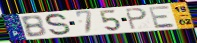5: (98, 9, 122, 32)
7: (74, 9, 94, 36)
B: (19, 14, 48, 38)
E: (147, 5, 178, 29)
P: (124, 7, 149, 31)
S: (44, 12, 72, 37)
